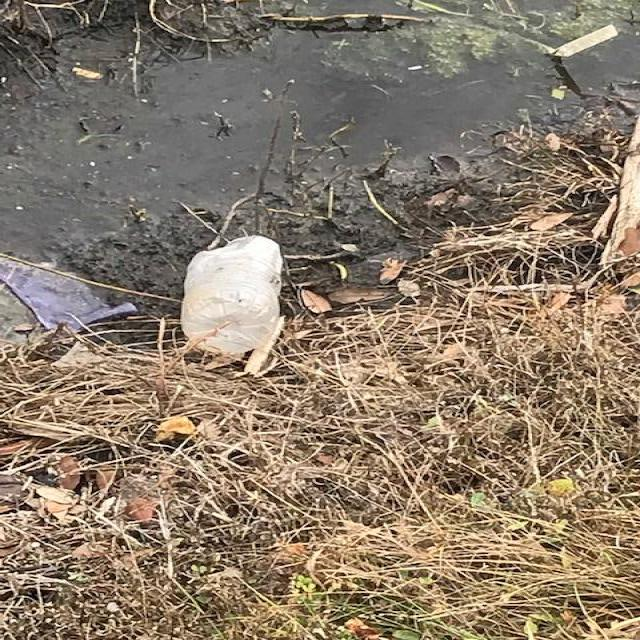litter: (303, 262, 481, 348)
